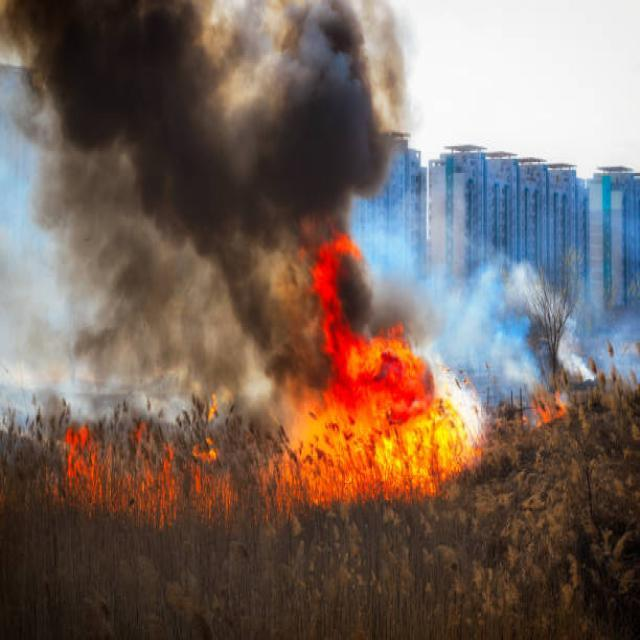Fire: (264, 200, 537, 486), (62, 399, 262, 506)
Smoke: (3, 0, 414, 422)
